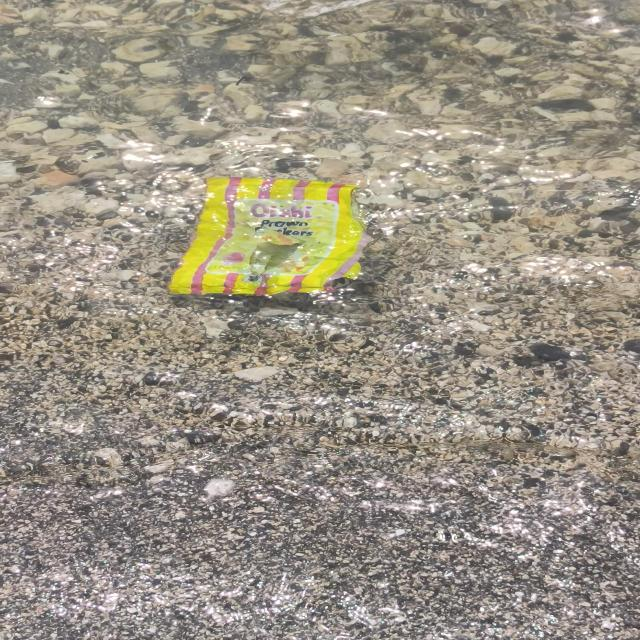plastic_waste: (165, 177, 377, 297)
